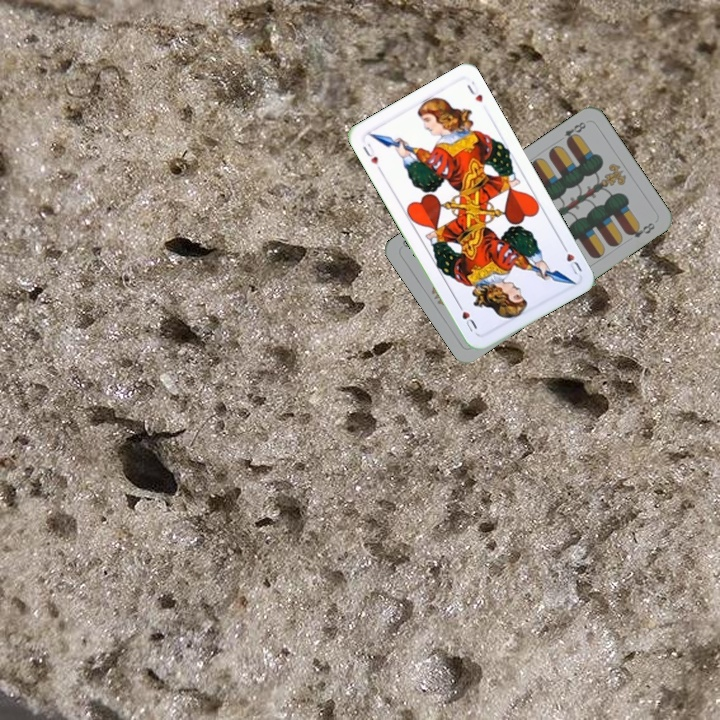E8: (554, 117, 589, 146)
HU: (558, 240, 585, 278), (359, 139, 384, 174)
